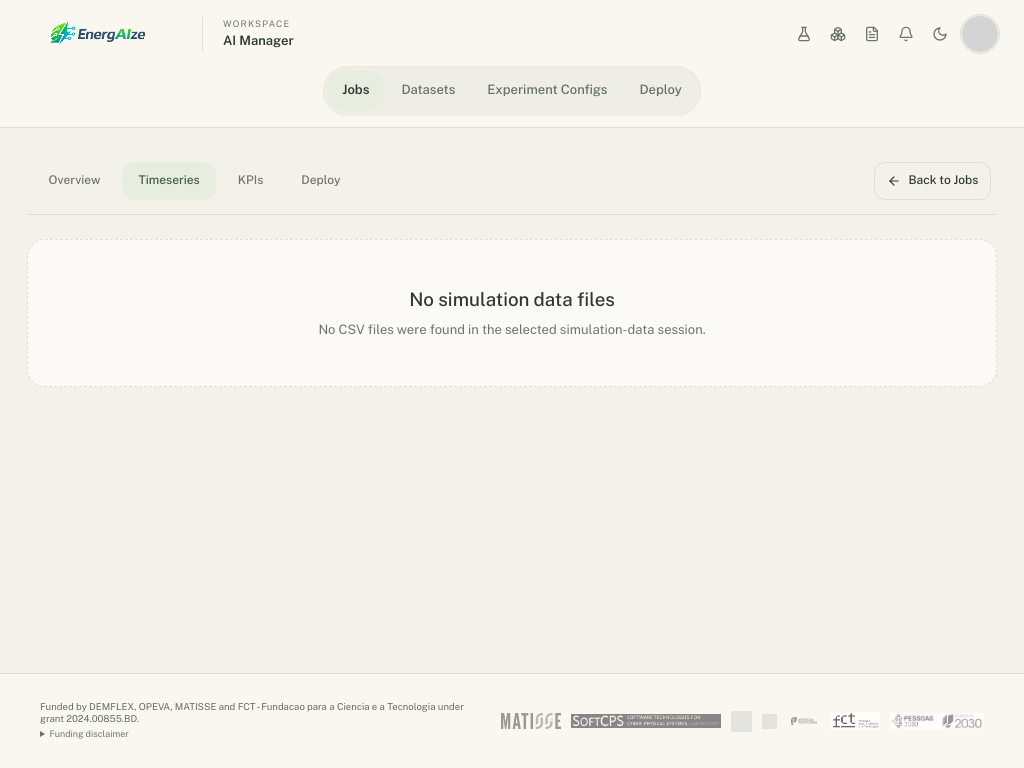
it: App integration › shows known missing simulation files without requesting an index, and keeps inline KPIs
The image size is (1024, 768).
expect the heading "No simulation data files" is shown: met, box [409, 286, 615, 313]
Click the button "KPIs" at (251, 181), box [222, 162, 279, 200]
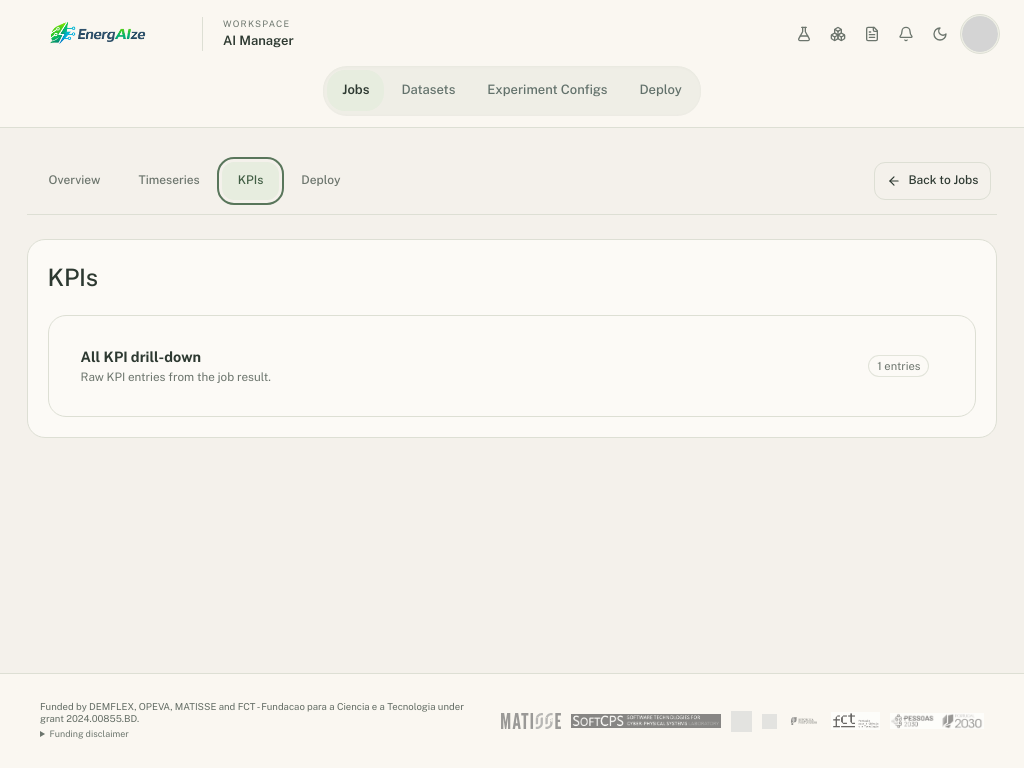
Click the button "All KPI drill-down" at (141, 356), box [69, 336, 955, 396]
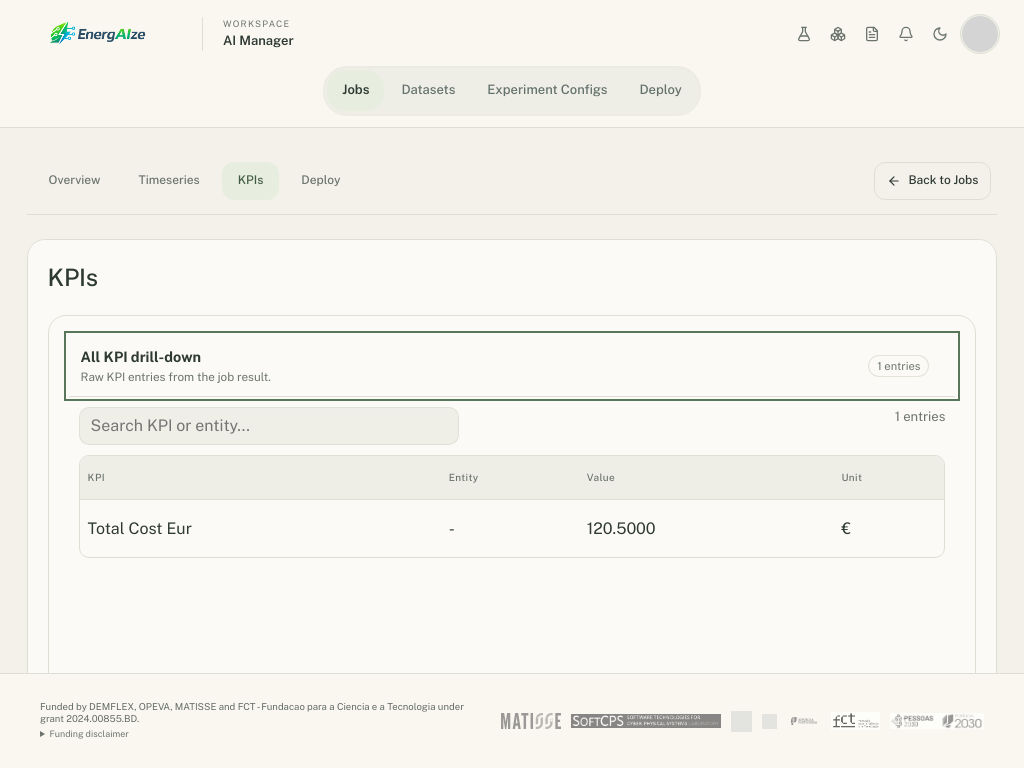
expect the text "120.5" is shown: met, box [587, 518, 656, 538]
